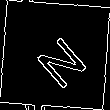N_NW: (24, 23, 86, 87)
